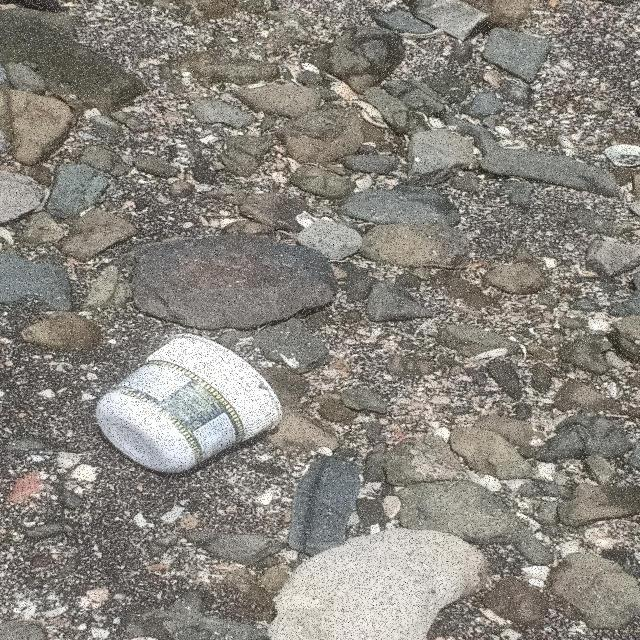plastic_waste: (95, 334, 285, 475)
